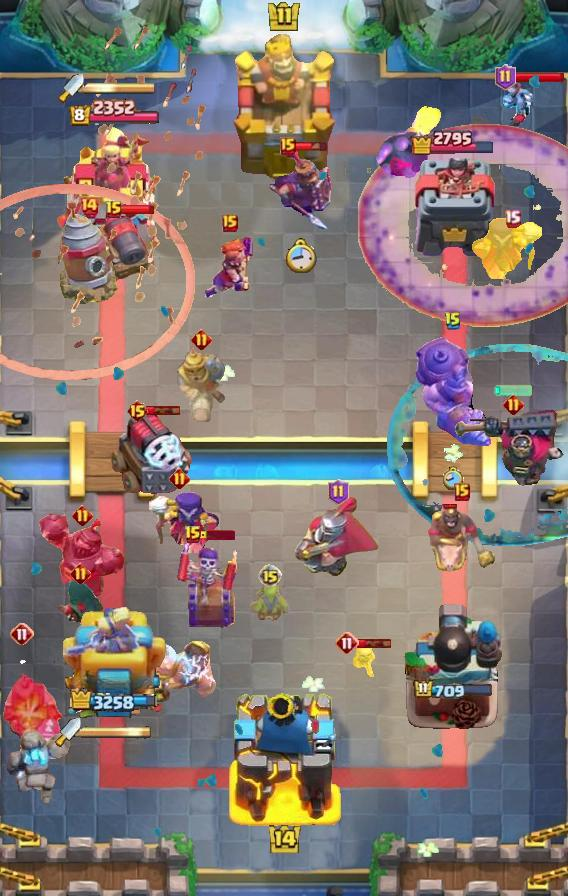axe: (470, 217, 554, 279), (137, 491, 221, 553)
baby-dragon: (375, 104, 447, 178)
bar: (55, 126, 173, 256), (60, 607, 168, 731)
elixir: (285, 238, 317, 273), (444, 465, 465, 490)
elixir-golem-big: (269, 142, 333, 232)
emote: (513, 71, 565, 83), (295, 140, 330, 152), (357, 638, 392, 650), (121, 204, 155, 216), (146, 404, 181, 415), (199, 530, 235, 540)
freeze: (426, 504, 498, 572), (148, 636, 216, 706)
golem: (109, 408, 195, 496)
heal-spirit: (350, 643, 378, 679)
ice-spirit: (493, 384, 533, 396)
inferno-dragon: (0, 651, 66, 753)
inferno-tower: (452, 405, 568, 491)
king-tower: (226, 688, 342, 826), (231, 35, 337, 182)
king-tower-bar: (84, 81, 156, 95), (81, 725, 153, 739)
magic-archer: (59, 212, 119, 306)
pad_0: (386, 344, 568, 550)
queen-tower: (409, 158, 500, 256)
ram-rider: (174, 347, 228, 425)
rocket: (358, 123, 568, 327)
royal-delivery: (495, 80, 539, 126)
royal-giant-evolution: (92, 208, 156, 286)
royal-guardian: (36, 514, 128, 600)
selected: (67, 99, 160, 128), (69, 688, 158, 715), (410, 128, 496, 155), (414, 679, 495, 701)
skeleton-barrel: (1, 22, 208, 381)
skeleton-king-bar: (176, 539, 238, 631)
tesla: (56, 580, 104, 626)
tesla-evolution: (202, 234, 258, 300)
text: (258, 564, 282, 588), (10, 622, 34, 646), (335, 631, 359, 655), (495, 64, 517, 90), (127, 399, 150, 423), (327, 479, 348, 505), (69, 563, 91, 585), (504, 393, 525, 415), (169, 467, 190, 489), (71, 505, 92, 527), (192, 329, 213, 350), (79, 196, 99, 216), (105, 200, 123, 220), (444, 311, 462, 331), (184, 525, 202, 545), (503, 209, 520, 228), (280, 137, 296, 155), (222, 214, 238, 232), (454, 483, 470, 501)
tower-bar: (403, 601, 503, 731)
valkyrie-evolution: (0, 728, 74, 810)
wall-breaker-evolution: (295, 495, 381, 579)
wizard: (412, 335, 494, 449)
zap: (248, 583, 292, 625)
